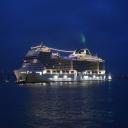cruises: (15, 41, 109, 84)
